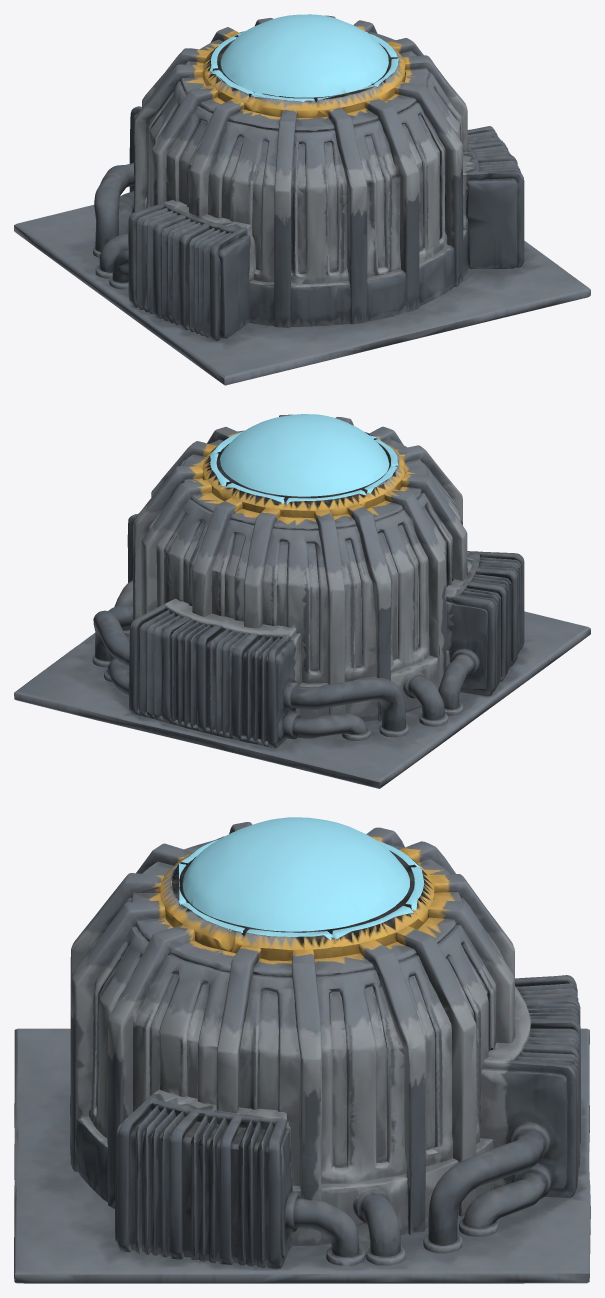
File: town-reactor-full.glb
3 views of the same model, one above another, from view 1: azimuth 30°, elevation 25°; view 2: azimuth 150°, elevation 25°; view 3: azimuth 270°, elevation 25° (orthographic). The views are drawn at different scales.
Parts seen in each view (by area): view 1: town-reactor-full; view 2: town-reactor-full; view 3: town-reactor-full.
Part boxes in pixels (x1,y1,x2,y2): town-reactor-full: (14,14,590,385); town-reactor-full: (14,414,590,788); town-reactor-full: (14,817,590,1283).
Size of the model in its own units: 10.8 by 6.79 by 10.75.
Materials: 1 (1 with a texture image).
